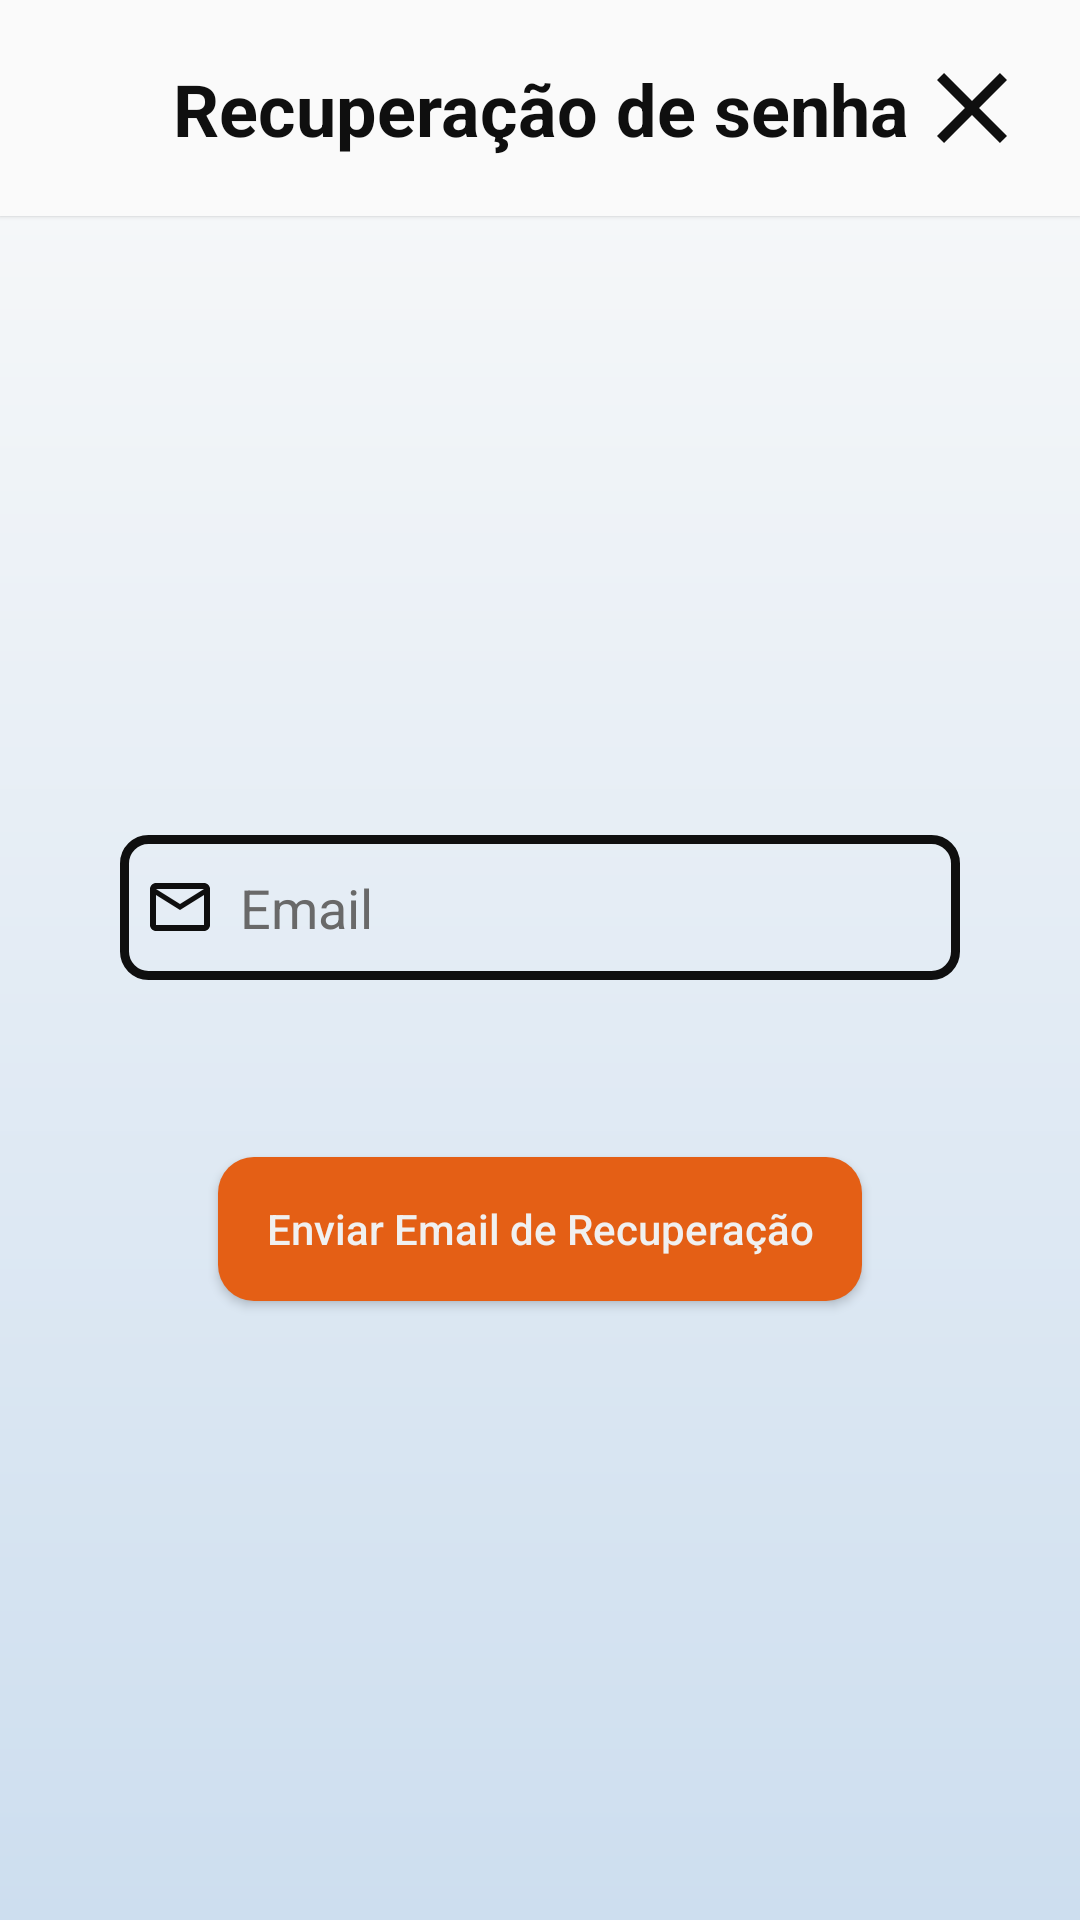

Where to tap for icons on this 1080 x 1920 app screen, as (x,y):
cancel: (972,108)
